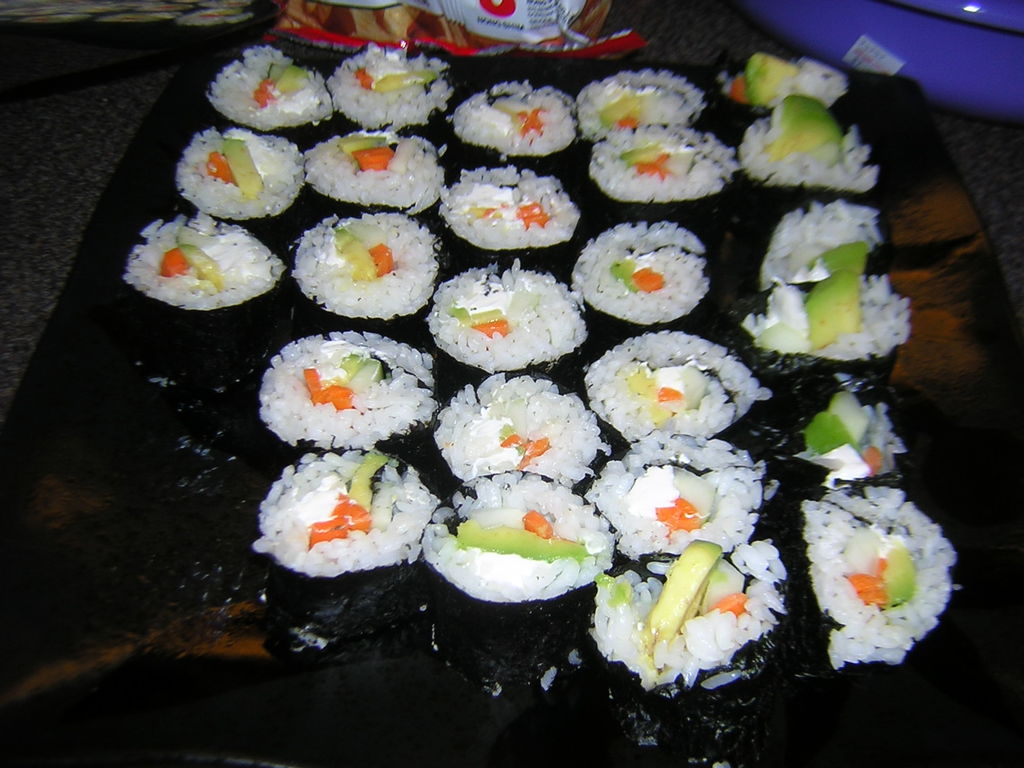sushi: (124, 33, 953, 767), (257, 447, 434, 582)
